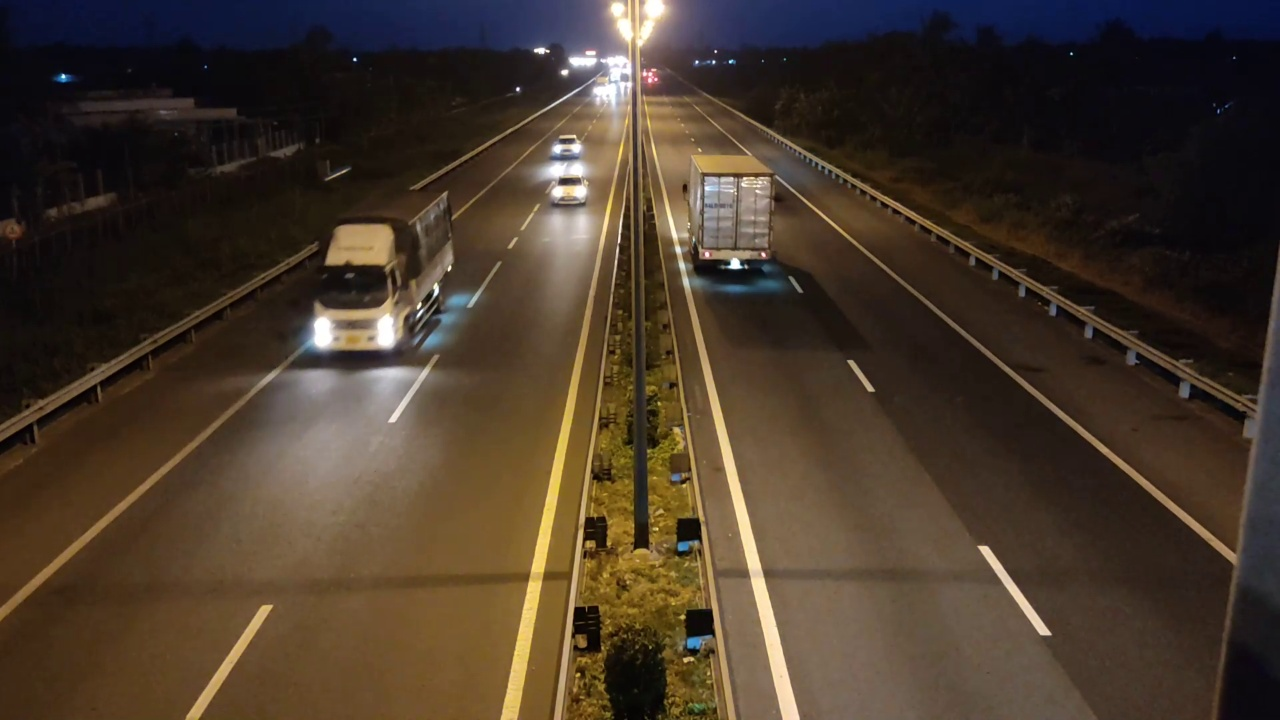car: (547, 174, 589, 207), (550, 134, 583, 161)
truck: (311, 186, 456, 357), (684, 153, 777, 275)
